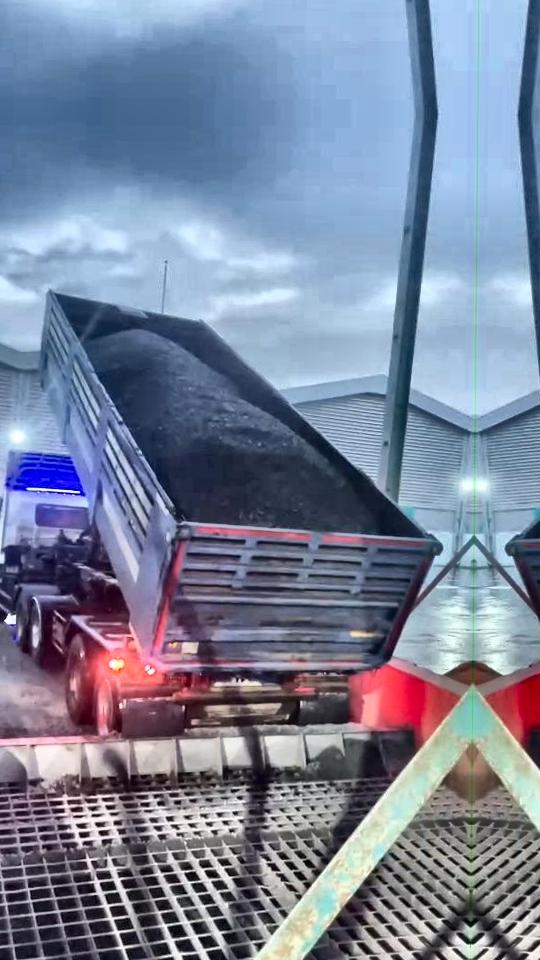gravel: (85, 330, 378, 534)
